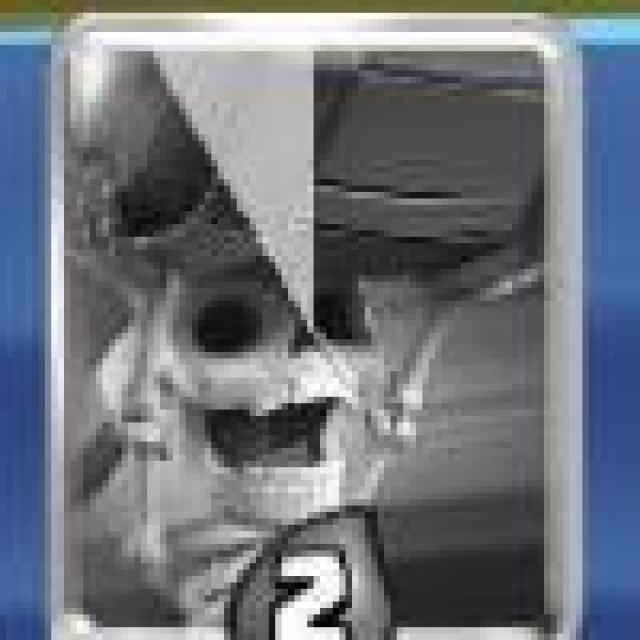Wall_Breakers: (47, 13, 580, 640)
